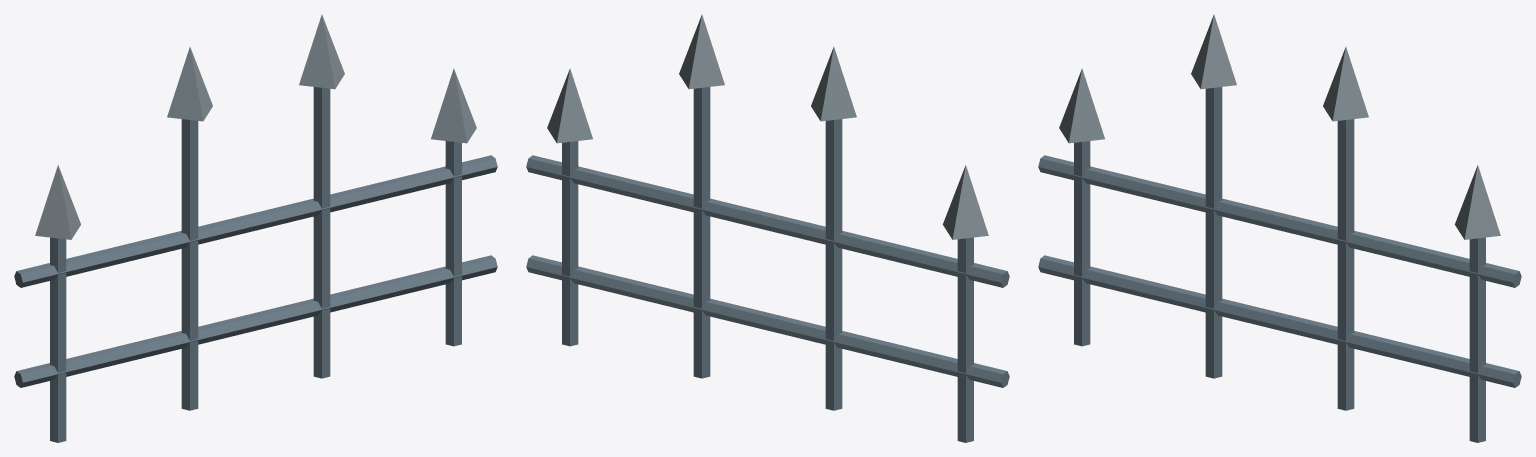
File: map-exclusive-v3__grave_12.glb
The picture shows the model from 3 angles, left to right: view 1: azimuth 30°, elevation 25°; view 2: azimuth 150°, elevation 25°; view 3: azimuth 330°, elevation 25°; orthographic projection.
Parts seen in each view (by area): view 1: grave_12; view 2: grave_12; view 3: grave_12.
Part boxes in pixels (x1,y1,x2,y2): grave_12: (14,14,497,442); grave_12: (526,14,1009,442); grave_12: (1038,14,1521,442).
Size of the model in its own units: 1.44 by 1.04 by 0.14.
